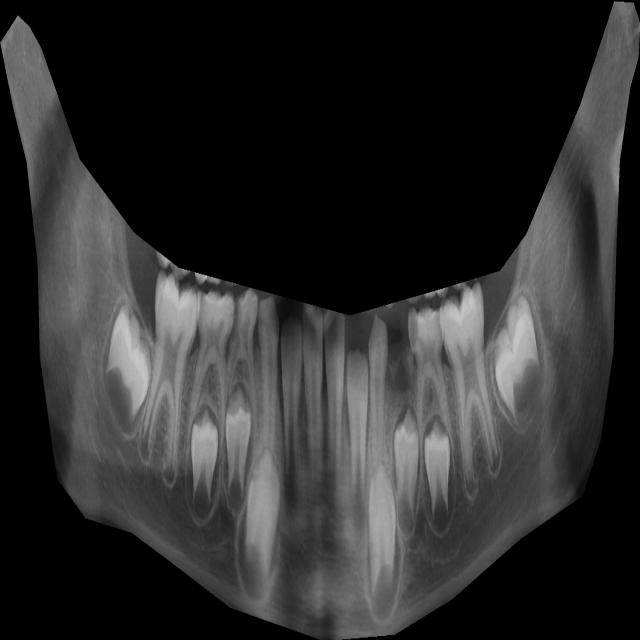mandibula: (0, 1, 640, 640)
